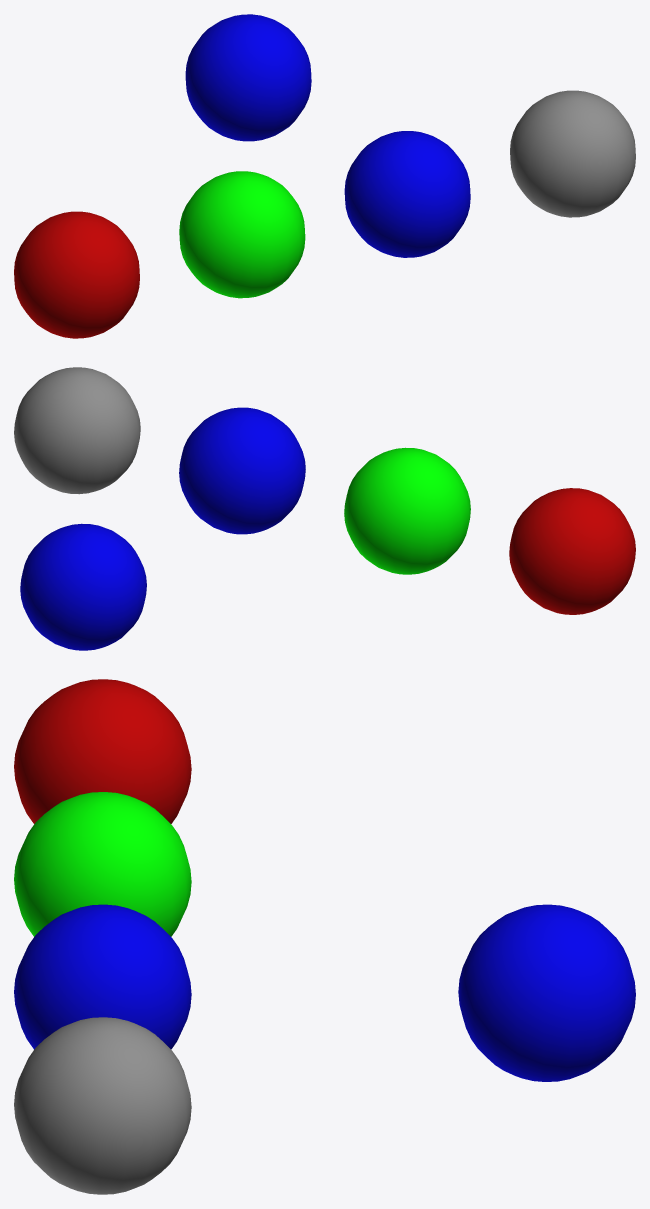
The model's file is TransparencyMode_Opaque.gltf.
3 views of the same model, one above another, from view 1: azimuth 30°, elevation 25°; view 2: azimuth 150°, elevation 25°; view 3: azimuth 270°, elevation 25° (orthographic). The views are drawn at different scales.
Visible parts, largest first — view 1: pSphere5, pSphere2, pSphere1, pSphere3, pSphere4; view 2: pSphere2, pSphere4, pSphere5, pSphere3, pSphere1; view 3: pSphere4, pSphere5, pSphere2, pSphere3, pSphere1.
Boxes of the visible parts, <box> form: pSphere5: <box>185,14,311,141</box>; pSphere2: <box>179,171,305,298</box>; pSphere1: <box>14,211,139,338</box>; pSphere3: <box>344,131,470,257</box>; pSphere4: <box>510,90,635,217</box>; pSphere2: <box>344,447,470,574</box>; pSphere4: <box>14,367,140,494</box>; pSphere5: <box>20,523,146,650</box>; pSphere3: <box>179,407,305,534</box>; pSphere1: <box>509,488,635,614</box>; pSphere4: <box>14,1017,191,1194</box>; pSphere5: <box>458,904,635,1081</box>; pSphere2: <box>14,792,191,936</box>; pSphere3: <box>14,904,191,1049</box>; pSphere1: <box>14,679,191,823</box>.
Size of the model in its own units: 11 by 2 by 7.
